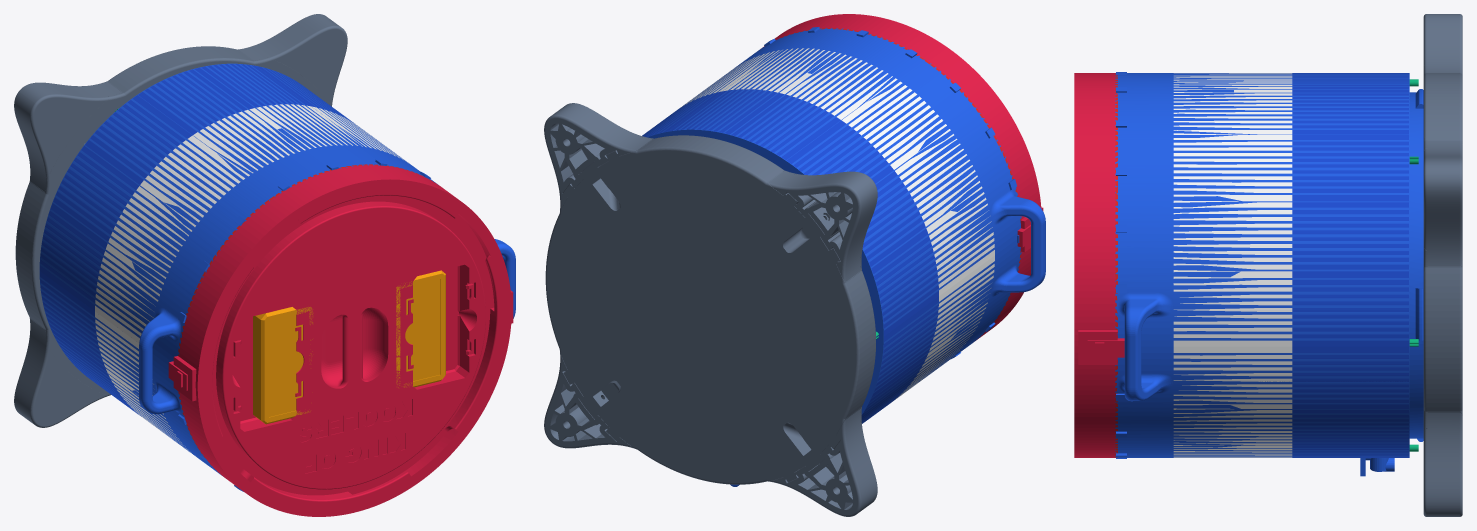
File: KingOfKoolers_V12_20in_Tall_24od.obj
3 views of the same model, side by side, from view 1: azimuth 30°, elevation 25°; view 2: azimuth 150°, elevation 25°; view 3: azimuth 270°, elevation 25° (orthographic). The views are drawn at different scales.
Parts seen in each view (by area): view 1: v12_crown_lid_V12_Embossed_Crown_Lid_+_Deadbolt_Sliders, v12_one_piece_20in_V12_20in_Tall_24in_OD_One-Piece_Body, v12_wagon_base_Concentric_Dovetail_Wagon_Base_+_4x_Wheel_Feet, v12_sec2_lower_20in_Sec_2_-_Lower_Body_&_Spigot_(20in_Version), v12_sec3_mid_20in_Sec_3_-_Mid_Body_Extension_(20in_Version), v12_solar_batteries_Dual_10W_USB_Solar_Battery_Enclosures, v12_sec4_handles_Sec_4_-_Molded_Side_Loop_Handle_Ring, v12_sec5_collar_Sec_5_-_20-Start_Helix_&_Keyway_Collar; view 2: v12_wagon_base_Concentric_Dovetail_Wagon_Base_+_4x_Wheel_Feet, v12_one_piece_20in_V12_20in_Tall_24in_OD_One-Piece_Body, v12_sec2_lower_20in_Sec_2_-_Lower_Body_&_Spigot_(20in_Version), v12_sec3_mid_20in_Sec_3_-_Mid_Body_Extension_(20in_Version), v12_crown_lid_V12_Embossed_Crown_Lid_+_Deadbolt_Sliders, v12_sec4_handles_Sec_4_-_Molded_Side_Loop_Handle_Ring; view 3: v12_one_piece_20in_V12_20in_Tall_24in_OD_One-Piece_Body, v12_sec2_lower_20in_Sec_2_-_Lower_Body_&_Spigot_(20in_Version), v12_sec3_mid_20in_Sec_3_-_Mid_Body_Extension_(20in_Version), v12_wagon_base_Concentric_Dovetail_Wagon_Base_+_4x_Wheel_Feet, v12_crown_lid_V12_Embossed_Crown_Lid_+_Deadbolt_Sliders, v12_sec4_handles_Sec_4_-_Molded_Side_Loop_Handle_Ring, v12_sec5_collar_Sec_5_-_20-Start_Helix_&_Keyway_Collar.
Boxes of the visible parts, box(x1,y1,x2,y2) form: v12_crown_lid_V12_Embossed_Crown_Lid_+_Deadbolt_Sliders: box(168, 165, 513, 516); v12_one_piece_20in_V12_20in_Tall_24in_OD_One-Piece_Body: box(39, 63, 515, 491); v12_wagon_base_Concentric_Dovetail_Wagon_Base_+_4x_Wheel_Feet: box(14, 14, 347, 427); v12_sec2_lower_20in_Sec_2_-_Lower_Body_&_Spigot_(20in_Version): box(40, 64, 352, 416); v12_sec3_mid_20in_Sec_3_-_Mid_Body_Extension_(20in_Version): box(95, 104, 408, 454); v12_solar_batteries_Dual_10W_USB_Solar_Battery_Enclosures: box(253, 270, 445, 424); v12_sec4_handles_Sec_4_-_Molded_Side_Loop_Handle_Ring: box(139, 145, 512, 475); v12_sec5_collar_Sec_5_-_20-Start_Helix_&_Keyway_Collar: box(178, 164, 422, 474); v12_wagon_base_Concentric_Dovetail_Wagon_Base_+_4x_Wheel_Feet: box(544, 103, 877, 516); v12_one_piece_20in_V12_20in_Tall_24in_OD_One-Piece_Body: box(642, 27, 1045, 486); v12_sec2_lower_20in_Sec_2_-_Lower_Body_&_Spigot_(20in_Version): box(642, 89, 938, 423); v12_sec3_mid_20in_Sec_3_-_Mid_Body_Extension_(20in_Version): box(681, 48, 994, 401); v12_crown_lid_V12_Embossed_Crown_Lid_+_Deadbolt_Sliders: box(764, 14, 1043, 339); v12_sec4_handles_Sec_4_-_Molded_Side_Loop_Handle_Ring: box(739, 29, 1045, 357); v12_one_piece_20in_V12_20in_Tall_24in_OD_One-Piece_Body: box(1115, 72, 1423, 476); v12_sec2_lower_20in_Sec_2_-_Lower_Body_&_Spigot_(20in_Version): box(1292, 73, 1408, 457); v12_sec3_mid_20in_Sec_3_-_Mid_Body_Extension_(20in_Version): box(1173, 73, 1292, 457); v12_wagon_base_Concentric_Dovetail_Wagon_Base_+_4x_Wheel_Feet: box(1423, 14, 1462, 516); v12_crown_lid_V12_Embossed_Crown_Lid_+_Deadbolt_Sliders: box(1074, 73, 1124, 457); v12_sec4_handles_Sec_4_-_Molded_Side_Loop_Handle_Ring: box(1118, 73, 1173, 457); v12_sec5_collar_Sec_5_-_20-Start_Helix_&_Keyway_Collar: box(1115, 73, 1117, 457).
Size of the model in its own units: 725 by 673 by 615.
